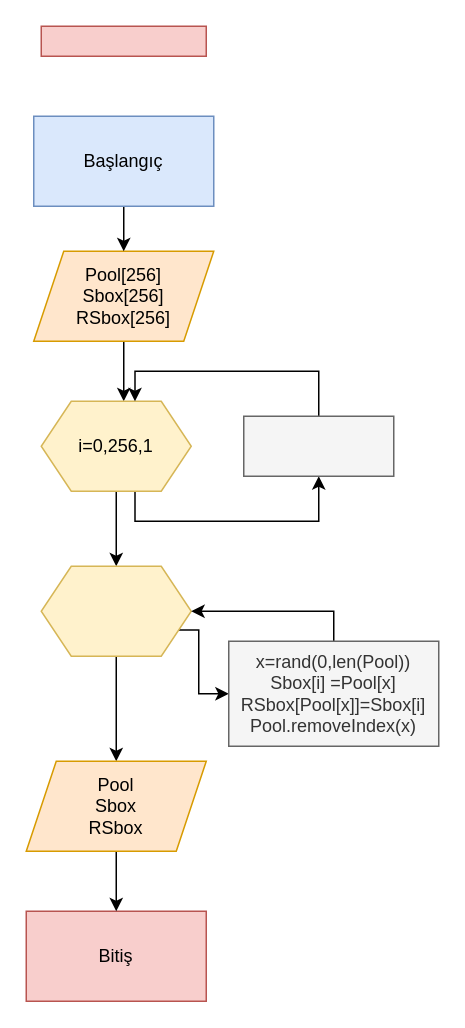
This 465x1028 diagram has some shape labels left out. The shapes that lost their labels are listed below. From the top down, each one's centre as x and y in pixels, then its label:
At (x=123, y=40): "Sbox-RSbox".
At (x=318, y=445): "Pool[i]=i".
At (x=115, y=610): "i=0,16,1".
